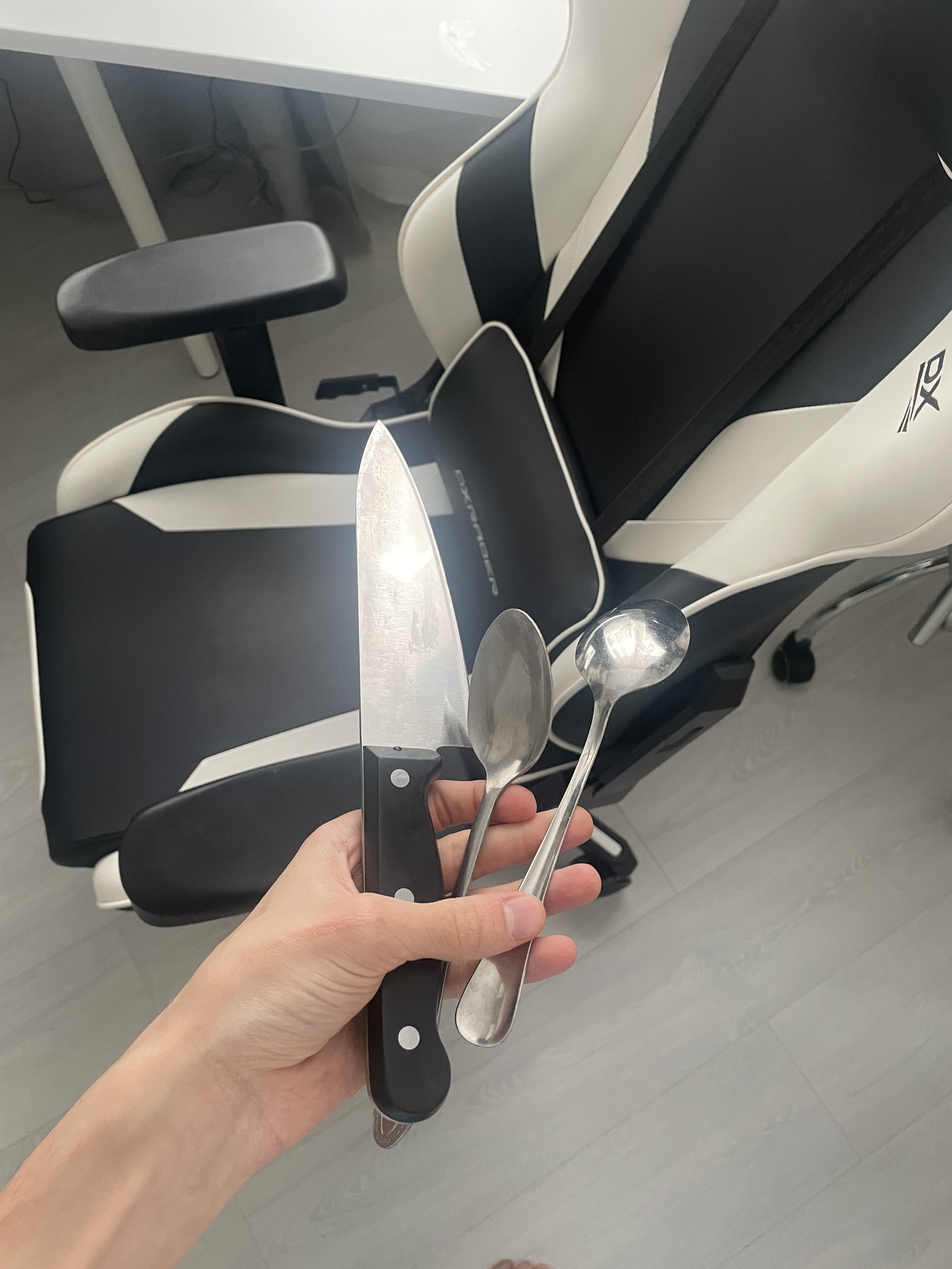knife: (356, 422, 469, 1120)
spoon: (451, 599, 690, 1047), (451, 609, 551, 897)
